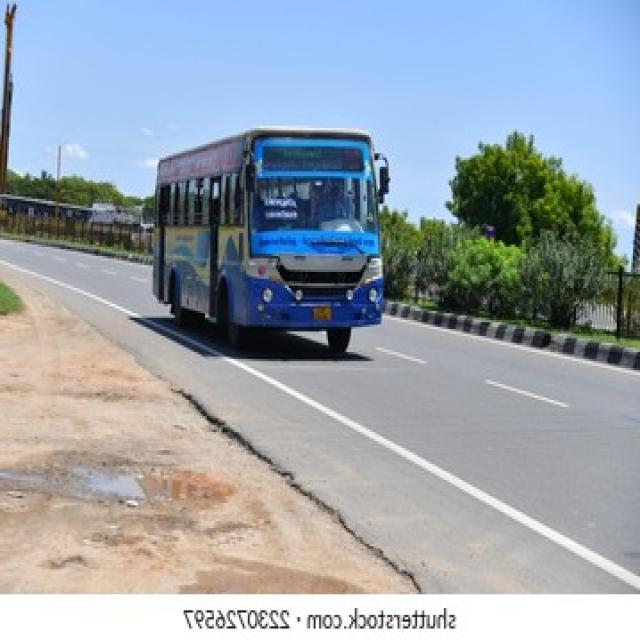bus: (152, 128, 389, 350)
